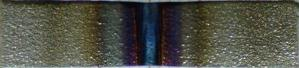soldas: (91, 2, 209, 67)
